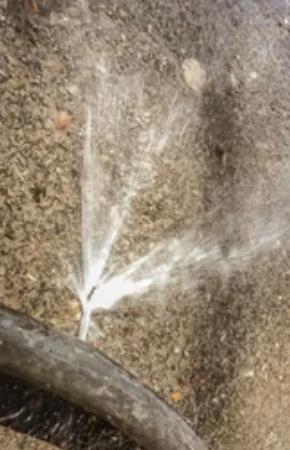pipe burst: (82, 67, 290, 312)
